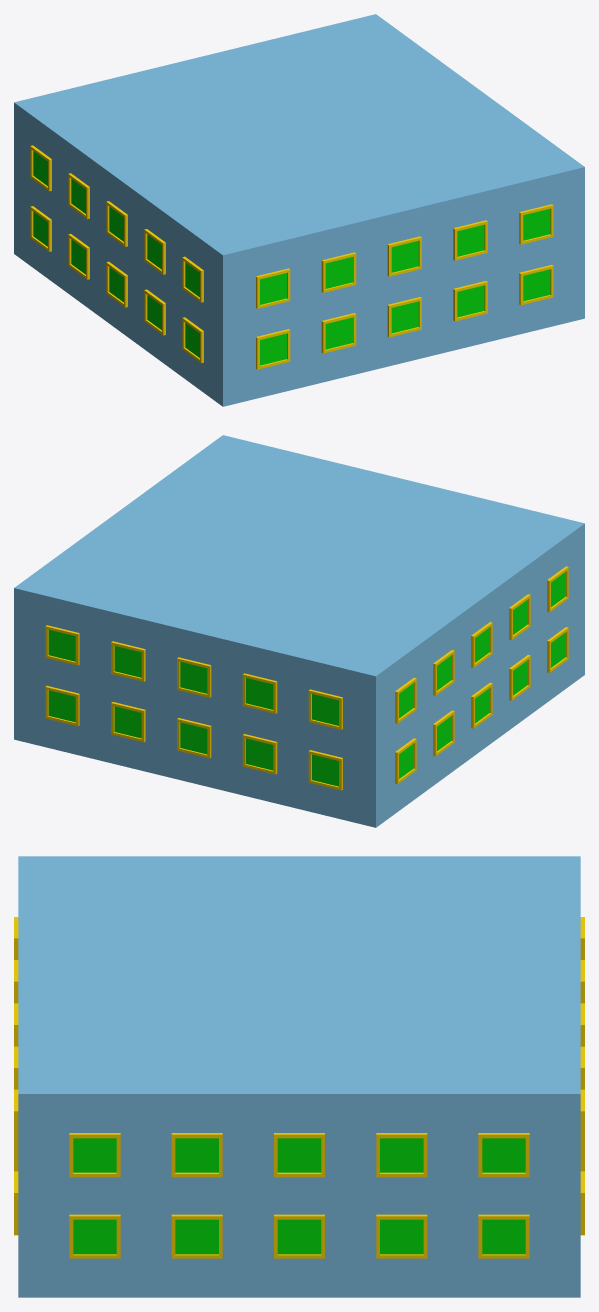
Rendered from Building_25x25_middle.fbx.
3 renders of one model, top to bottom at view 1: azimuth 30°, elevation 25°; view 2: azimuth 150°, elevation 25°; view 3: azimuth 270°, elevation 25°, orthographic. The views are drawn at different scales.
Parts seen in each view (by area): view 1: Mid_25x25, Mid_25x25_cell.009, Mid_25x25_cell.011, Mid_25x25_cell.006, Mid_25x25_cell.007, Window.045, Window.050, Window.046, Window.047, Window.048, Window.049, Window.051 (+14 smaller); view 2: Mid_25x25, Mid_25x25_cell.009, Mid_25x25_cell.006, Mid_25x25_cell.011, Mid_25x25_cell.012, Mid_25x25_cell.008, Mid_25x25_cell.007, Window.067, Window.072, Window.064, Window.065, Window.066 (+16 smaller); view 3: Mid_25x25, Mid_25x25_cell.009, Mid_25x25_cell.011, Mid_25x25_cell.013, Mid_25x25_cell.012, Window.054, Window.058, Window.059, Window.063, Window.055, Window.057, Window.060 (+4 smaller).
Part boxes in pixels (left/top/right/bottom): Mid_25x25: left=14, top=14, right=584, bottom=406; Mid_25x25_cell.009: left=14, top=33, right=480, bottom=243; Mid_25x25_cell.011: left=338, top=117, right=584, bottom=373; Mid_25x25_cell.006: left=96, top=197, right=352, bottom=405; Mid_25x25_cell.007: left=167, top=216, right=354, bottom=318; Window.045: left=321, top=313, right=356, bottom=353; Window.050: left=321, top=252, right=356, bottom=292; Window.046: left=387, top=297, right=421, bottom=337; Window.047: left=453, top=281, right=487, bottom=321; Window.048: left=519, top=265, right=553, bottom=305; Window.049: left=256, top=268, right=290, bottom=308; Window.051: left=387, top=236, right=421, bottom=276; Mid_25x25: left=14, top=435, right=584, bottom=827; Mid_25x25_cell.009: left=51, top=498, right=502, bottom=746; Mid_25x25_cell.006: left=442, top=562, right=584, bottom=774; Mid_25x25_cell.011: left=165, top=435, right=445, bottom=509; Mid_25x25_cell.012: left=14, top=599, right=297, bottom=799; Mid_25x25_cell.008: left=262, top=748, right=448, bottom=827; Mid_25x25_cell.007: left=526, top=524, right=584, bottom=590; Window.067: left=242, top=734, right=277, bottom=774; Window.072: left=242, top=673, right=277, bottom=713; Window.064: left=45, top=686, right=79, bottom=726; Window.065: left=111, top=702, right=145, bottom=742; Window.066: left=177, top=718, right=211, bottom=758; Mid_25x25: left=18, top=856, right=580, bottom=1297; Mid_25x25_cell.009: left=188, top=856, right=580, bottom=1117; Mid_25x25_cell.011: left=18, top=939, right=222, bottom=1297; Mid_25x25_cell.013: left=175, top=1085, right=406, bottom=1297; Mid_25x25_cell.012: left=332, top=1052, right=580, bottom=1297; Window.054: left=69, top=1214, right=120, bottom=1258; Window.058: left=478, top=1214, right=529, bottom=1258; Window.059: left=69, top=1133, right=120, bottom=1177; Window.063: left=478, top=1133, right=529, bottom=1177; Window.055: left=171, top=1214, right=222, bottom=1258; Window.057: left=376, top=1214, right=427, bottom=1258; Window.060: left=171, top=1133, right=222, bottom=1177.
Size of the model in its own units: 25.38 by 10 by 25.38.
